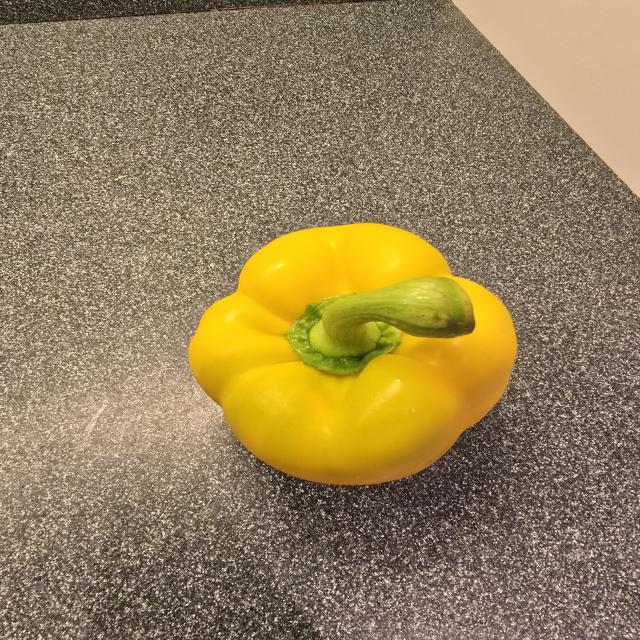Bell Pepper: (174, 216, 529, 497)
